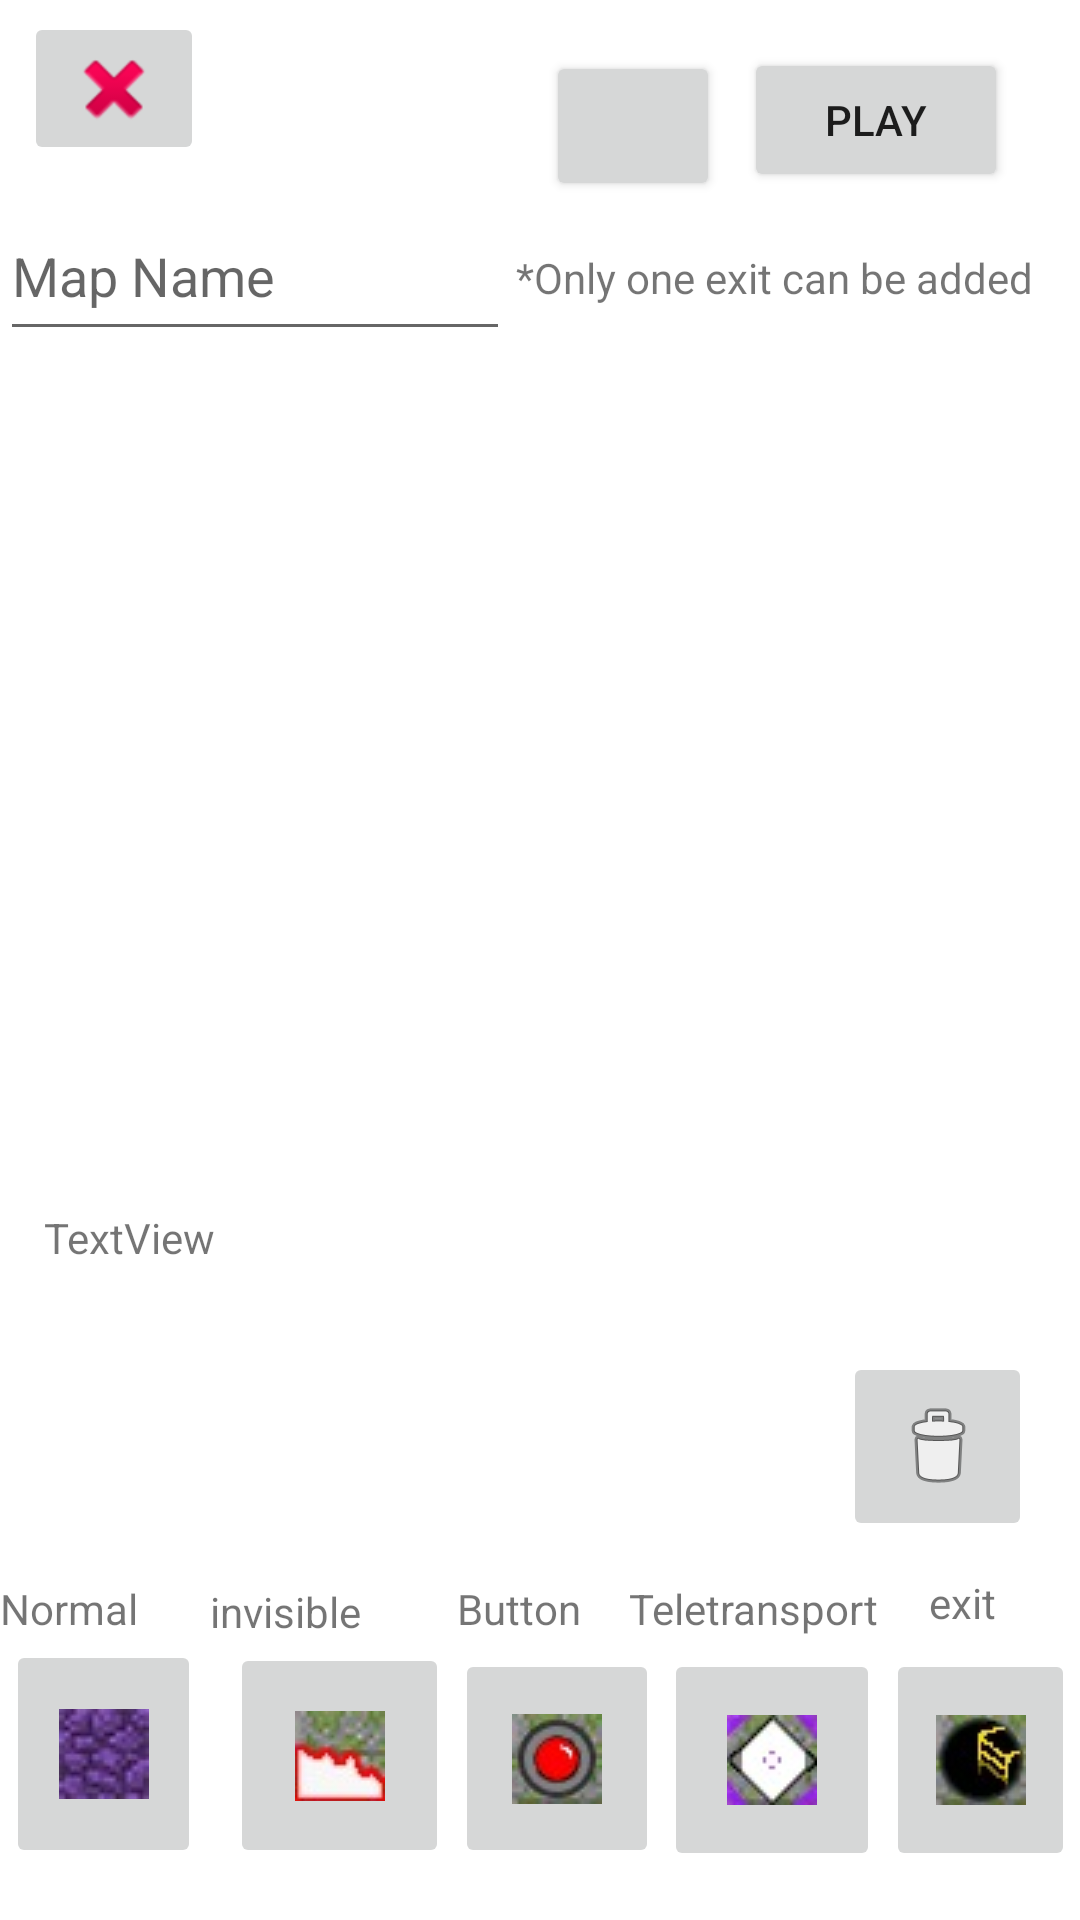

Icon bounding boxes for this 1080px x 1920px phone screenshot, format box=[x1, y1, x2, y2]:
coblestor: box=[18, 1658, 189, 1850]
delete: box=[36, 30, 192, 147], box=[855, 1370, 1020, 1523]
